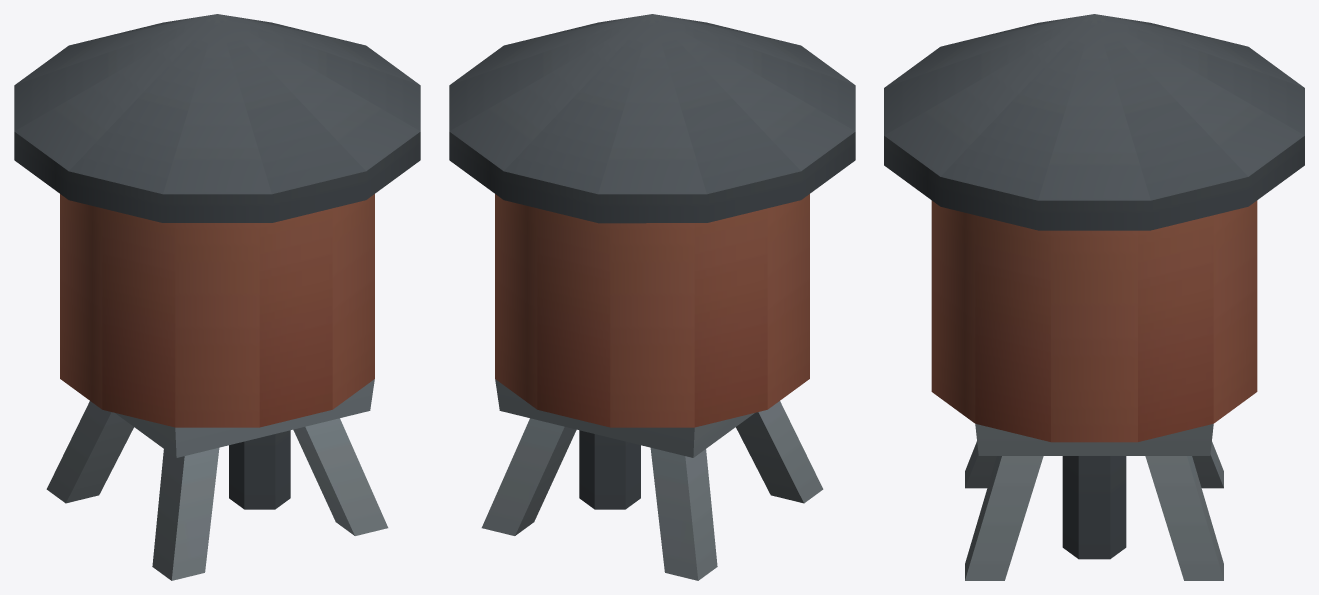
The model's file is watertower_free_model.glb.
The picture shows the model from 3 angles, left to right: view 1: azimuth 30°, elevation 25°; view 2: azimuth 150°, elevation 25°; view 3: azimuth 270°, elevation 25°; orthographic projection. The views are drawn at different scales.
Visible parts, largest first — view 1: watertower; view 2: watertower; view 3: watertower.
Boxes of the visible parts, bbox=[...] form: watertower: bbox=[14, 14, 420, 580]; watertower: bbox=[449, 14, 855, 580]; watertower: bbox=[884, 14, 1304, 580].
Size of the model in its own units: 0.4989 by 0.67 by 0.4989.
1 material, 1 textured.
